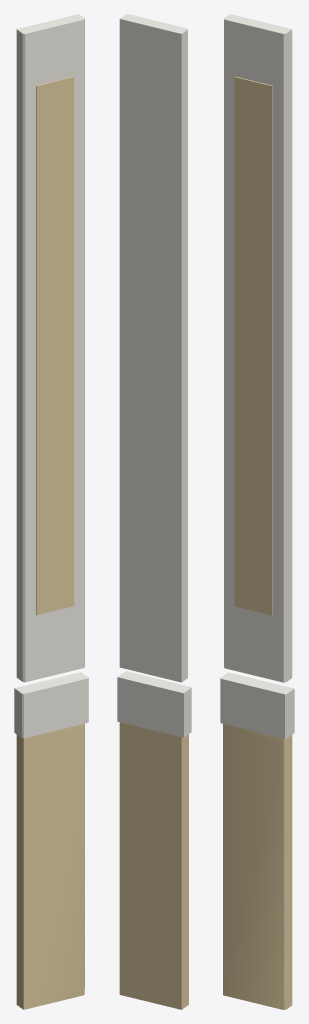
File: pilaster_g_c.glb
3 views of the same model, side by side, from view 1: azimuth 30°, elevation 25°; view 2: azimuth 150°, elevation 25°; view 3: azimuth 330°, elevation 25° (orthographic).
Parts seen in each view (by area): view 1: pilaster_g_c_acc_c, pilaster_g_c_trim; view 2: pilaster_g_c_trim, pilaster_g_c_acc_c; view 3: pilaster_g_c_acc_c, pilaster_g_c_trim.
Part boxes in pixels (bbox=[...]): pilaster_g_c_acc_c: bbox=[16, 76, 84, 1009]; pilaster_g_c_trim: bbox=[14, 14, 88, 738]; pilaster_g_c_trim: bbox=[117, 14, 191, 737]; pilaster_g_c_acc_c: bbox=[119, 722, 188, 1009]; pilaster_g_c_acc_c: bbox=[223, 76, 292, 1009]; pilaster_g_c_trim: bbox=[220, 14, 294, 738].
Bounding box in the file's own units: 0.32 × 4.5 × 0.07.
